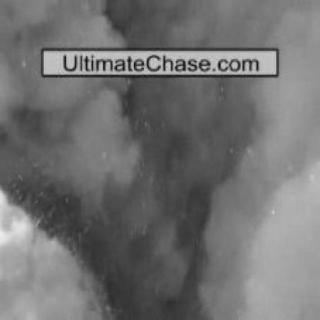Smoke: (10, 80, 306, 303)
